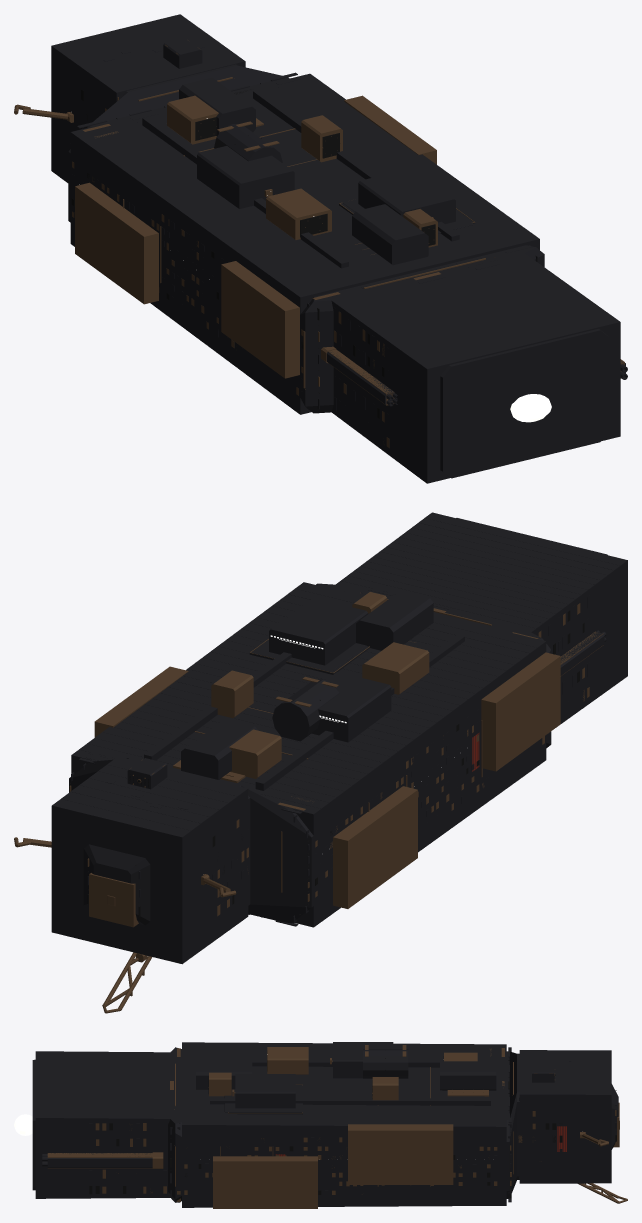
3 renders of one model, top to bottom at view 1: azimuth 30°, elevation 25°; view 2: azimuth 150°, elevation 25°; view 3: azimuth 270°, elevation 25°, orthographic. The views are drawn at different scales.
Visible parts, largest first — view 1: RIMWARD_HULL, RIMWARD_ENGINE_GLOW; view 2: RIMWARD_HULL; view 3: RIMWARD_HULL, RIMWARD_ENGINE_GLOW.
Part boxes in pixels (x1,y1,x2,y2): RIMWARD_HULL: (14,14,627,483); RIMWARD_ENGINE_GLOW: (510,394,551,422); RIMWARD_HULL: (14,512,627,1013); RIMWARD_HULL: (32,1042,627,1208); RIMWARD_ENGINE_GLOW: (14,1114,32,1135).
Size of the model in its own units: 29.2 by 20.78 by 81.74.
